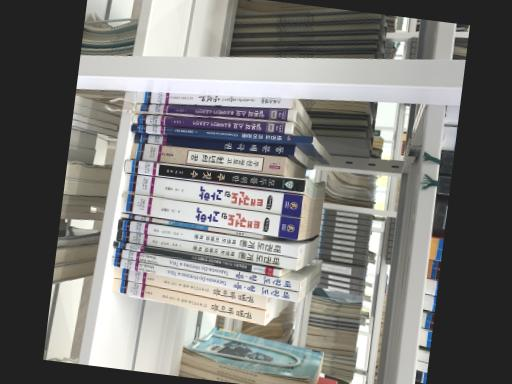book-spine: (108, 256, 298, 302), (119, 193, 300, 240), (111, 249, 300, 291), (122, 173, 302, 216), (111, 277, 265, 325), (115, 230, 296, 270), (117, 218, 298, 257), (112, 266, 267, 309), (112, 240, 279, 277), (124, 160, 306, 193), (128, 142, 285, 176), (119, 213, 262, 239), (133, 133, 294, 155), (130, 124, 313, 143), (131, 114, 293, 134), (134, 103, 297, 122), (135, 91, 292, 108)
